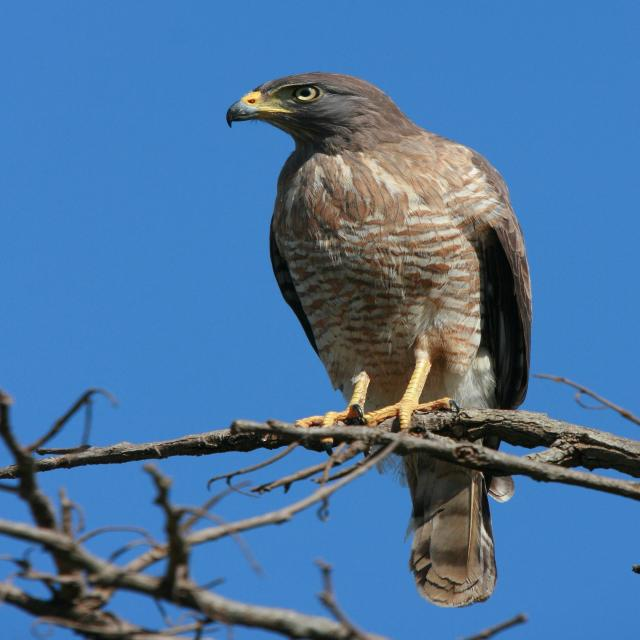bird: (215, 71, 578, 604)
